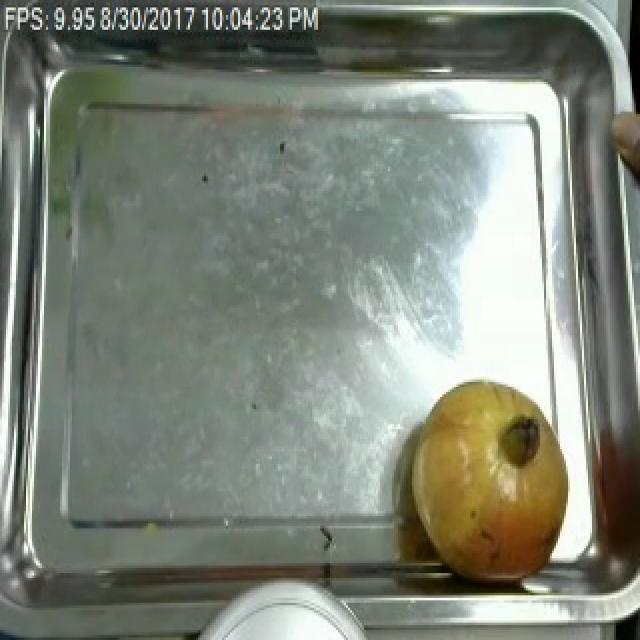fruit: (400, 365, 580, 593), (606, 99, 640, 196)
